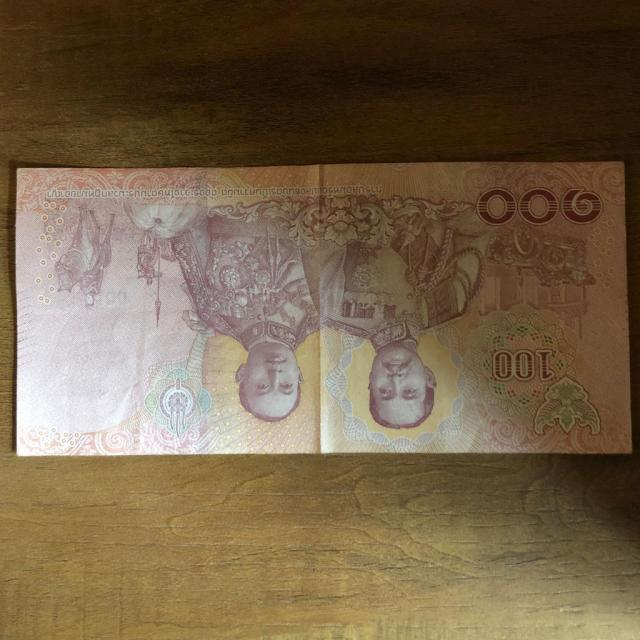THAI100: (16, 162, 631, 455)
